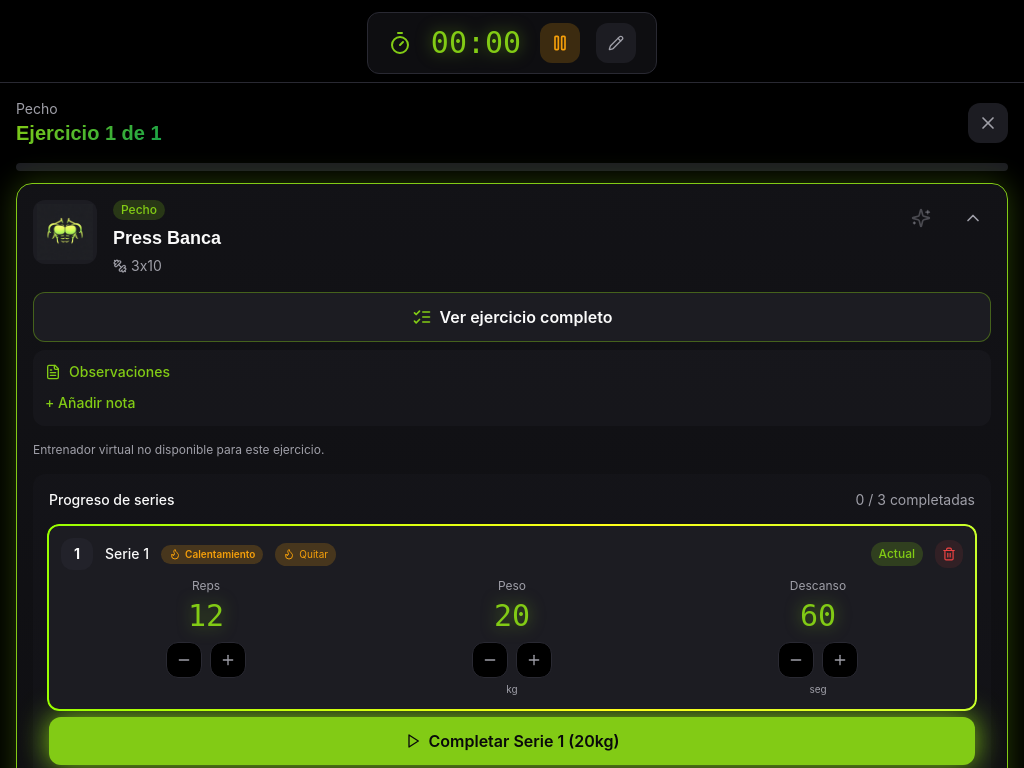
vista del ejercicio completo durante la ejecución › durante el descanso el botón abre la vista con la primera Realizada y la segunda Siguiente
The width and height of the screenshot is (1024, 768).
Click the button "Completar Serie 1 (20kg)" at (512, 741), box [49,717,975,765]
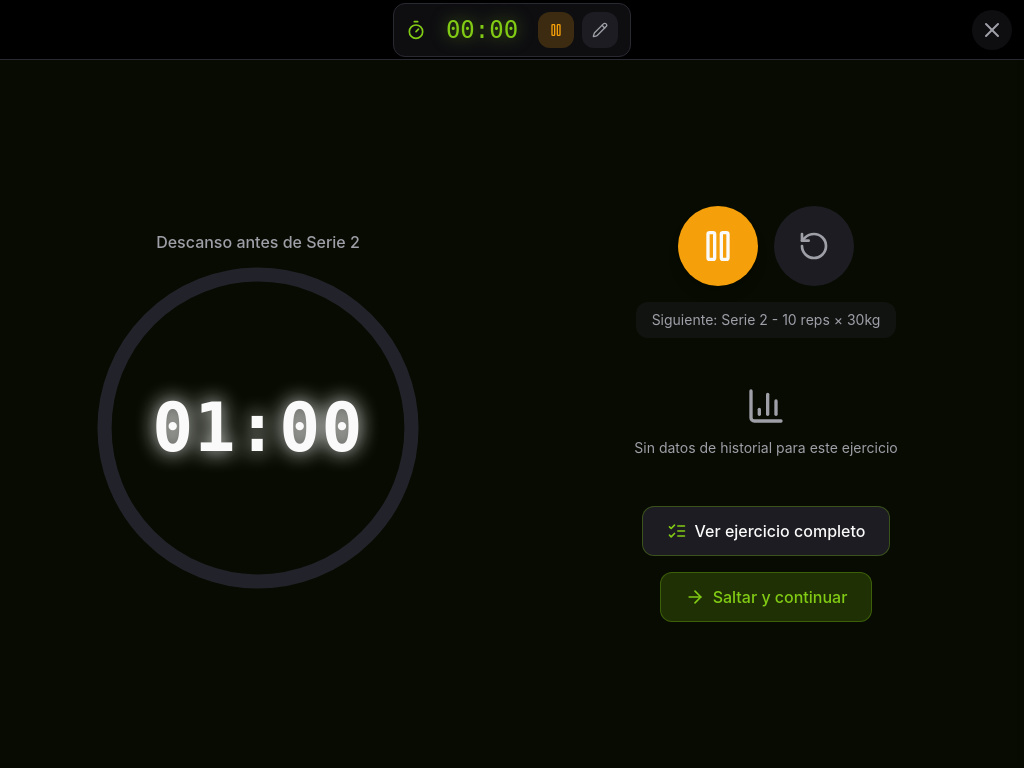
expect the button "Saltar y continuar" is shown: met, box [660,572,872,622]
Click the button "Ver ejercicio completo" at (766, 531), box [642,506,890,556]
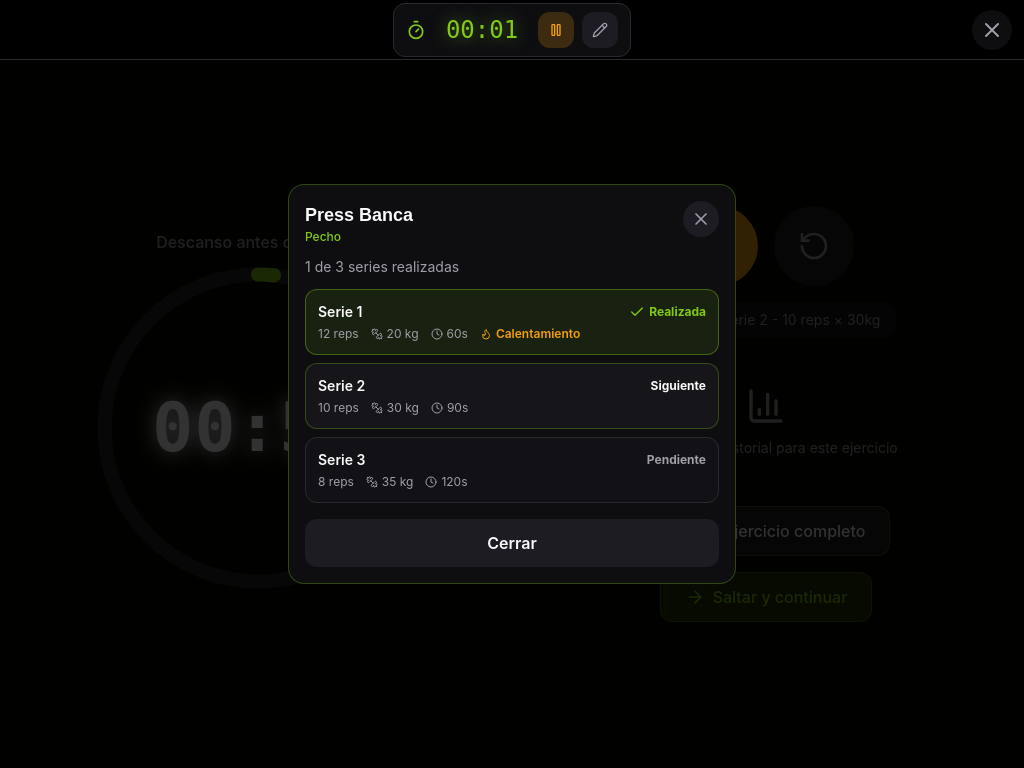
expect the text "1 de 3 series realizadas" is shown: met, box [305,258,459,275]
expect the element with test id "plan-set-1" shows "Realizada": met, box [649,304,706,319]
